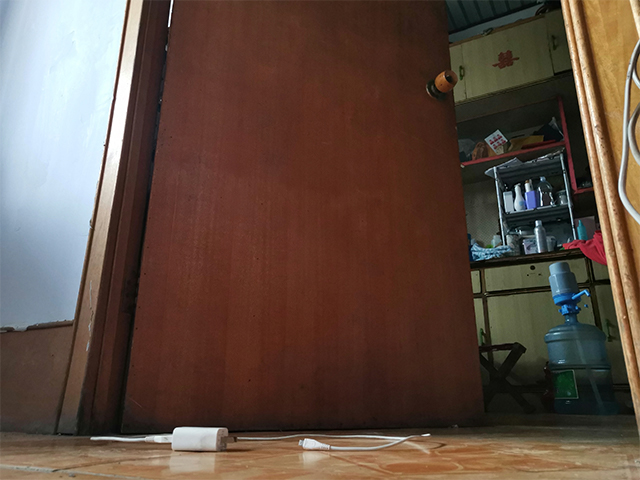cabinet: (470, 252, 636, 412)
stool: (476, 340, 538, 414)
wire: (87, 424, 433, 455)
